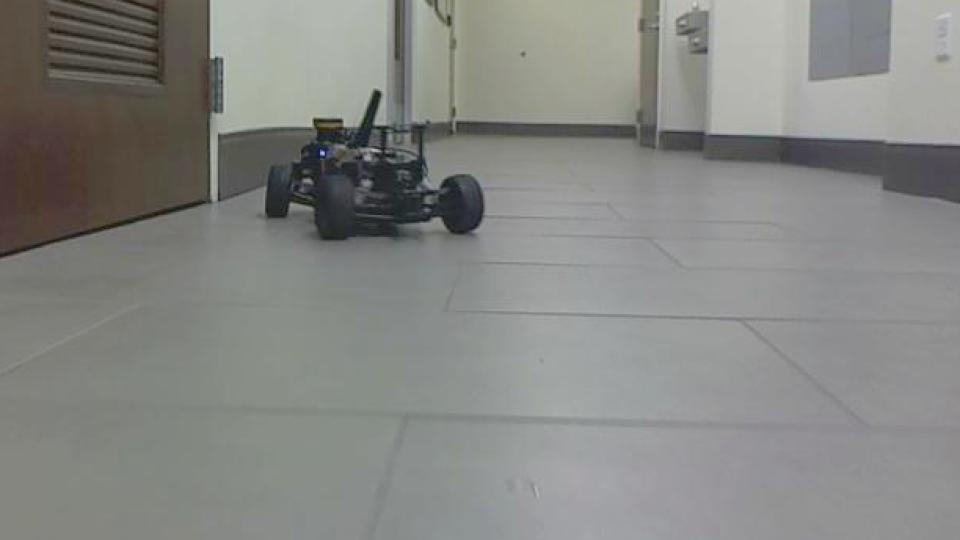car: (262, 87, 489, 244)
